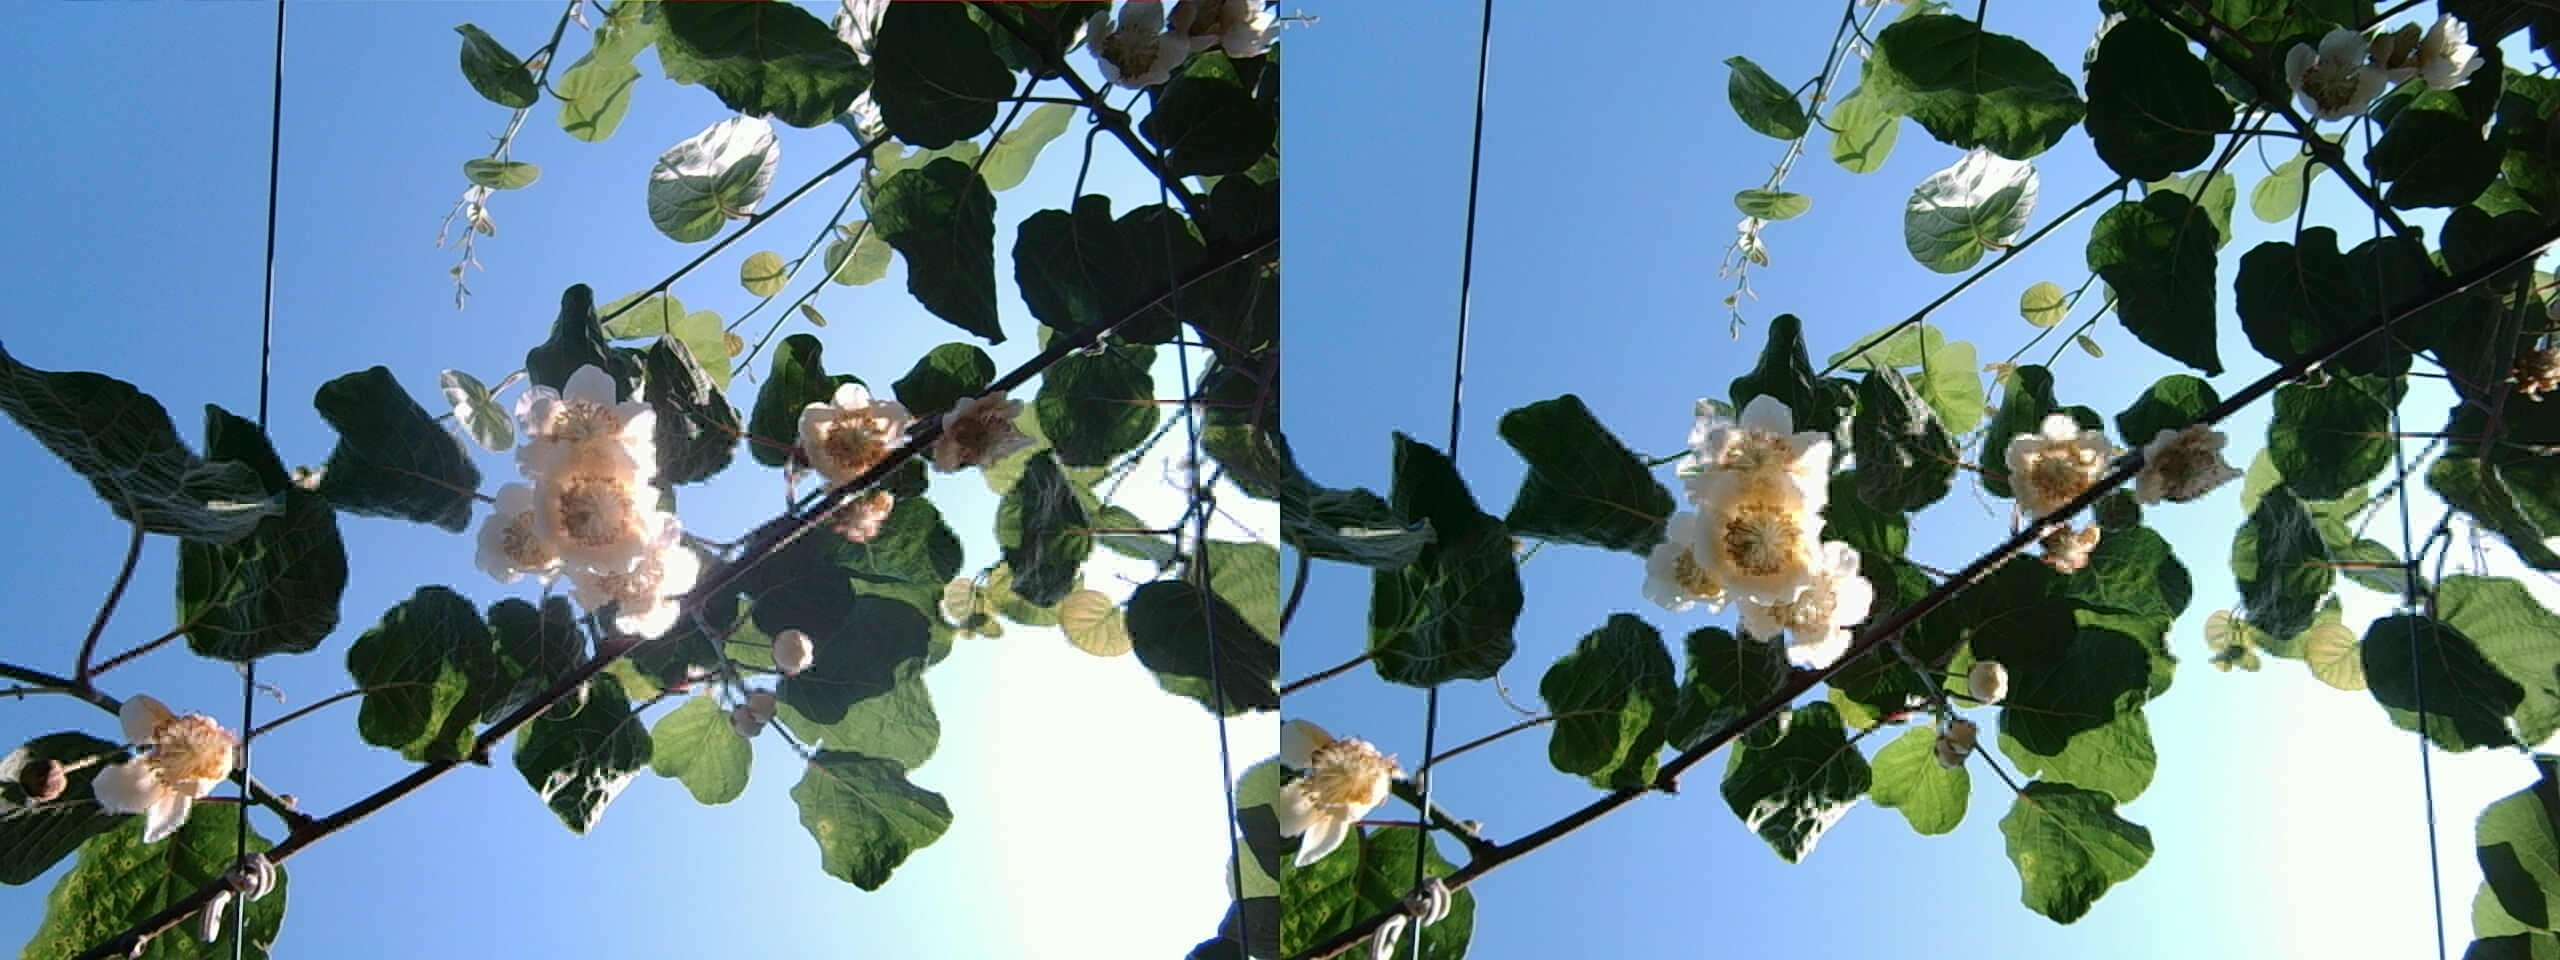flower: (1651, 402, 1861, 642), (478, 384, 691, 607), (1277, 718, 1398, 847)
